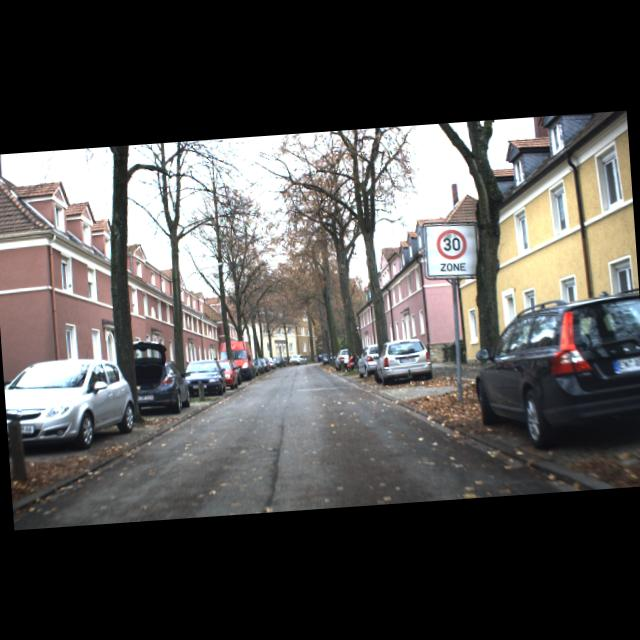prohibitory: (434, 227, 468, 260)
